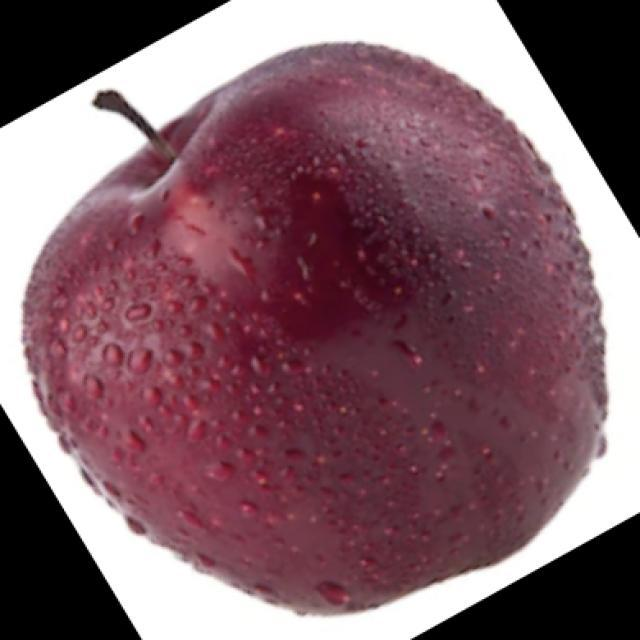Fresh Apple: (25, 39, 608, 626)
